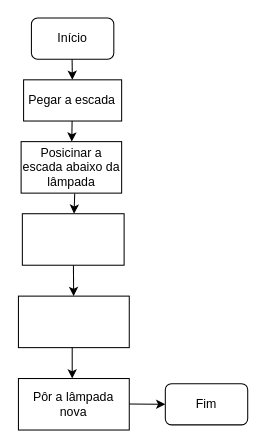
This 266x448 diagram has some shape labels left out. The centre of each missing label's shape, as x and y in pixels:
"Pegar a lâmpada nova e pôr ao lado" goes at [72,239].
"Subir na escada e retirar a lâmpada queimada" goes at [73,321].
